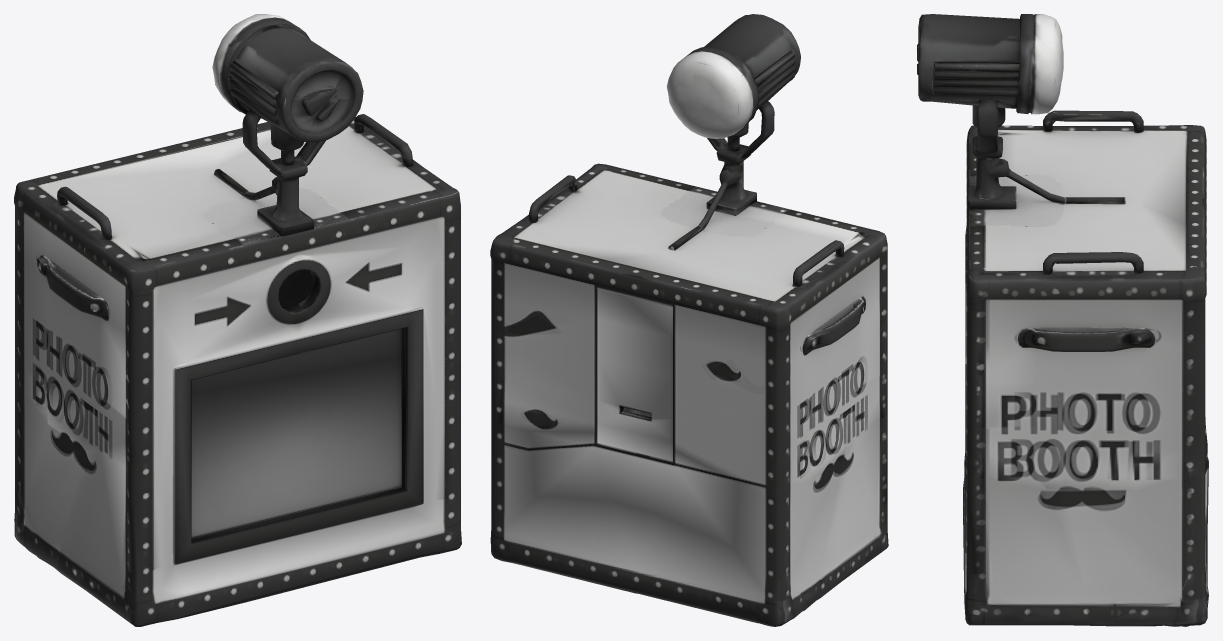
The model's file is photo_booth_0125194039_texture.glb.
3 renders of one model, left to right at view 1: azimuth 30°, elevation 25°; view 2: azimuth 150°, elevation 25°; view 3: azimuth 270°, elevation 25°, orthographic. The views are drawn at different scales.
Parts seen in each view (by area): view 1: Mesh_0; view 2: Mesh_0; view 3: Mesh_0.
Boxes of the visible parts, bbox=[...] form: Mesh_0: bbox=[14, 14, 461, 626]; Mesh_0: bbox=[490, 14, 888, 626]; Mesh_0: bbox=[917, 14, 1208, 626].
Bounding box in the file's own units: 0.4077 × 0.6096 × 0.3023.
Materials: 1 (1 with a texture image).
